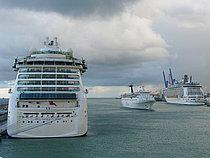Ship: (3, 33, 98, 143), (160, 66, 210, 112), (118, 79, 161, 113)
